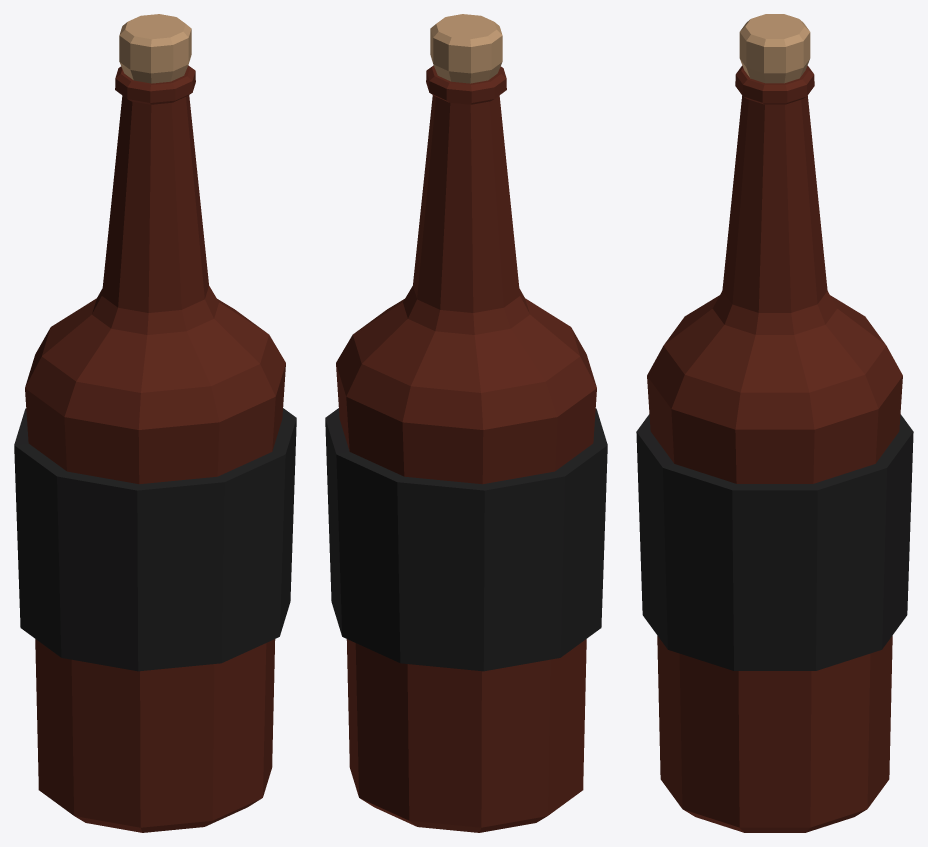
Rendered from Bottle C-col.glb.
3 renders of one model, left to right at view 1: azimuth 30°, elevation 25°; view 2: azimuth 150°, elevation 25°; view 3: azimuth 270°, elevation 25°, orthographic.
Visible parts, largest first — view 1: Bottle C-col; view 2: Bottle C-col; view 3: Bottle C-col.
Part boxes in pixels (<box>): Bottle C-col: <box>14,14,296,832</box>; Bottle C-col: <box>325,14,607,832</box>; Bottle C-col: <box>636,14,913,832</box>.
Bounding box in the file's own units: 0.0974 × 0.2966 × 0.0974.
